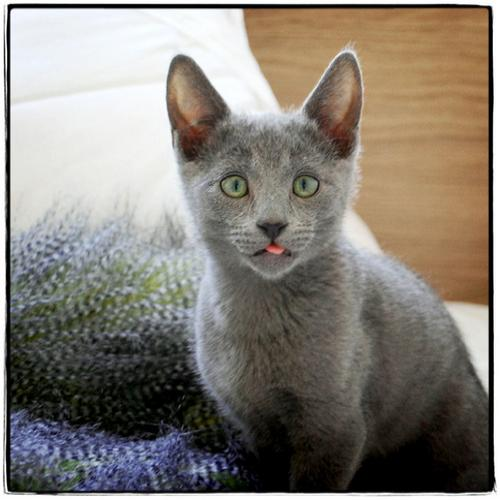rblue: (156, 44, 390, 298)
